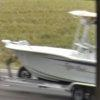Boat: (4, 13, 100, 89)
